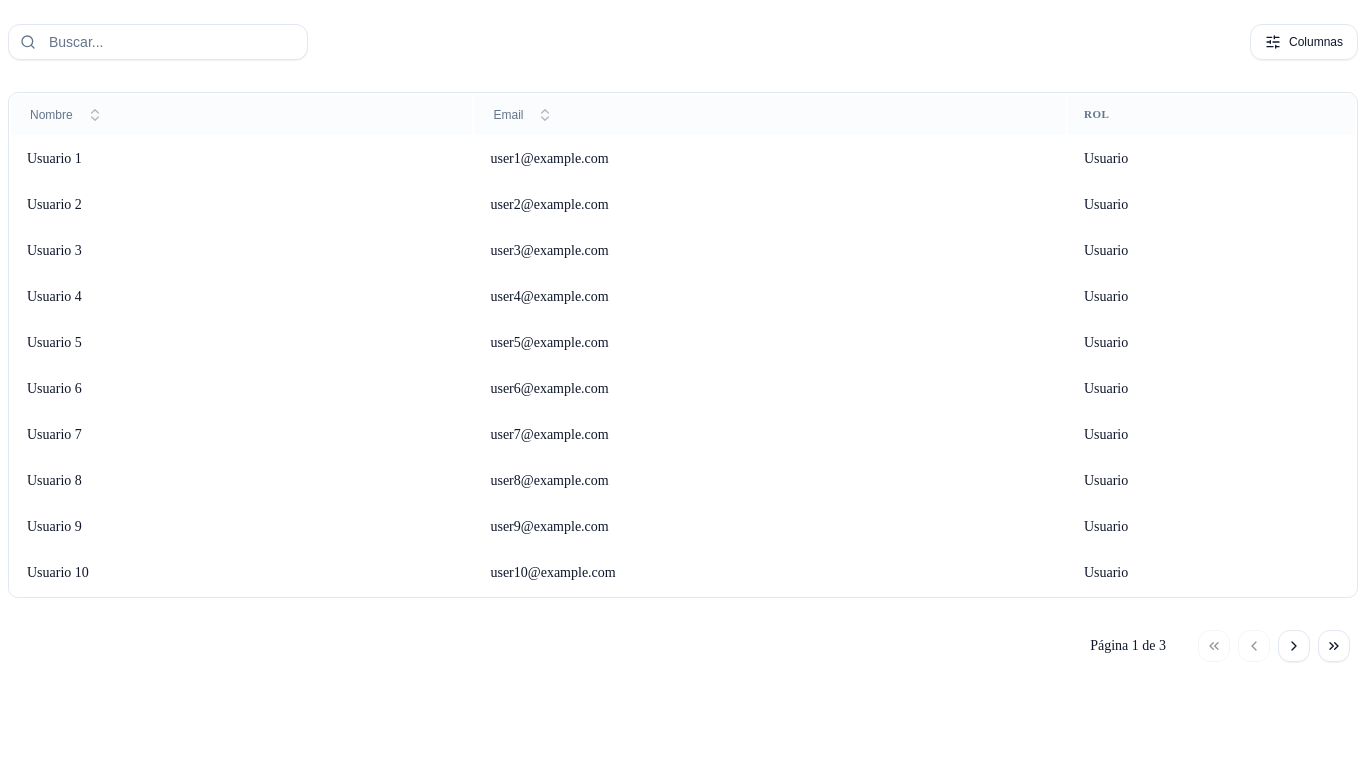
Scenario: DataTable Component › navigates pages using pagination next and prev buttons
Expected: the text "Página 1 de 3" is shown, [1090,636,1166,656]
Expected: the text "Usuario 1" is shown, [11,137,472,181]
Click the button named "ir a la página siguiente" at (1294, 646), box [1278,630,1310,662]
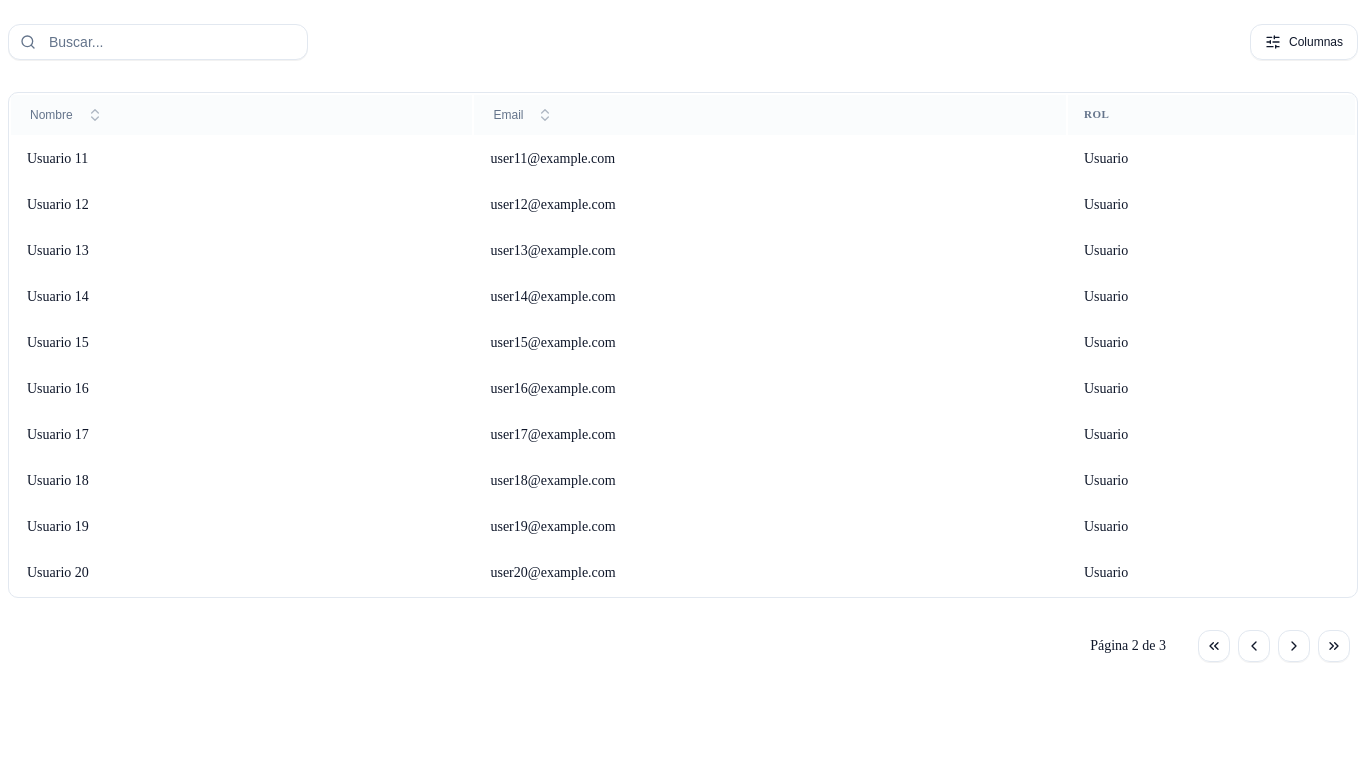
Expected: the text "Página 2 de 3" is shown, [1090,636,1166,656]
Expected: the text "Usuario 11" is shown, [11,137,472,181]
Click the button named "ir a la última página" at (1334, 646), box [1318,630,1350,662]
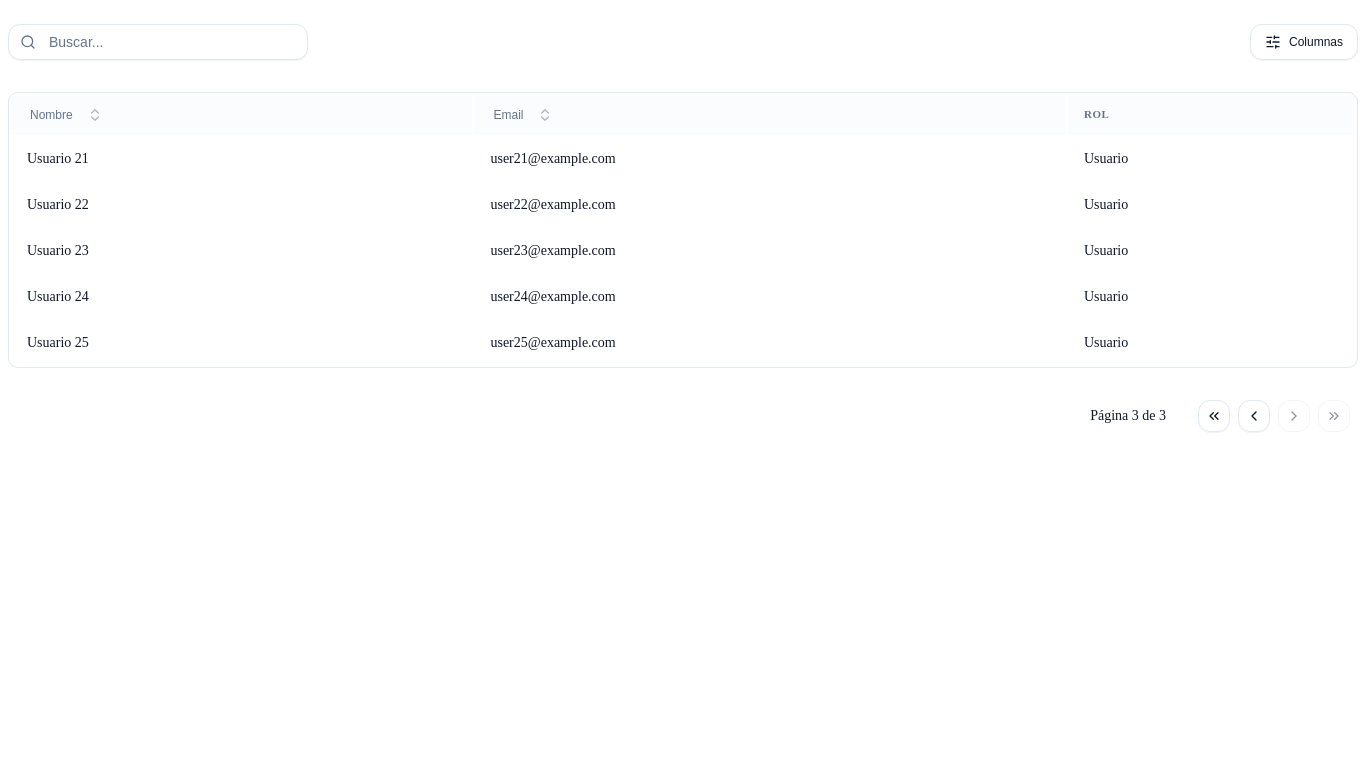
Expected: the text "Página 3 de 3" is shown, [1090,406,1166,426]
Expected: the text "Usuario 25" is shown, [11,321,472,365]
Click the button named "ir a la página anterior" at (1254, 416), box [1238,400,1270,432]
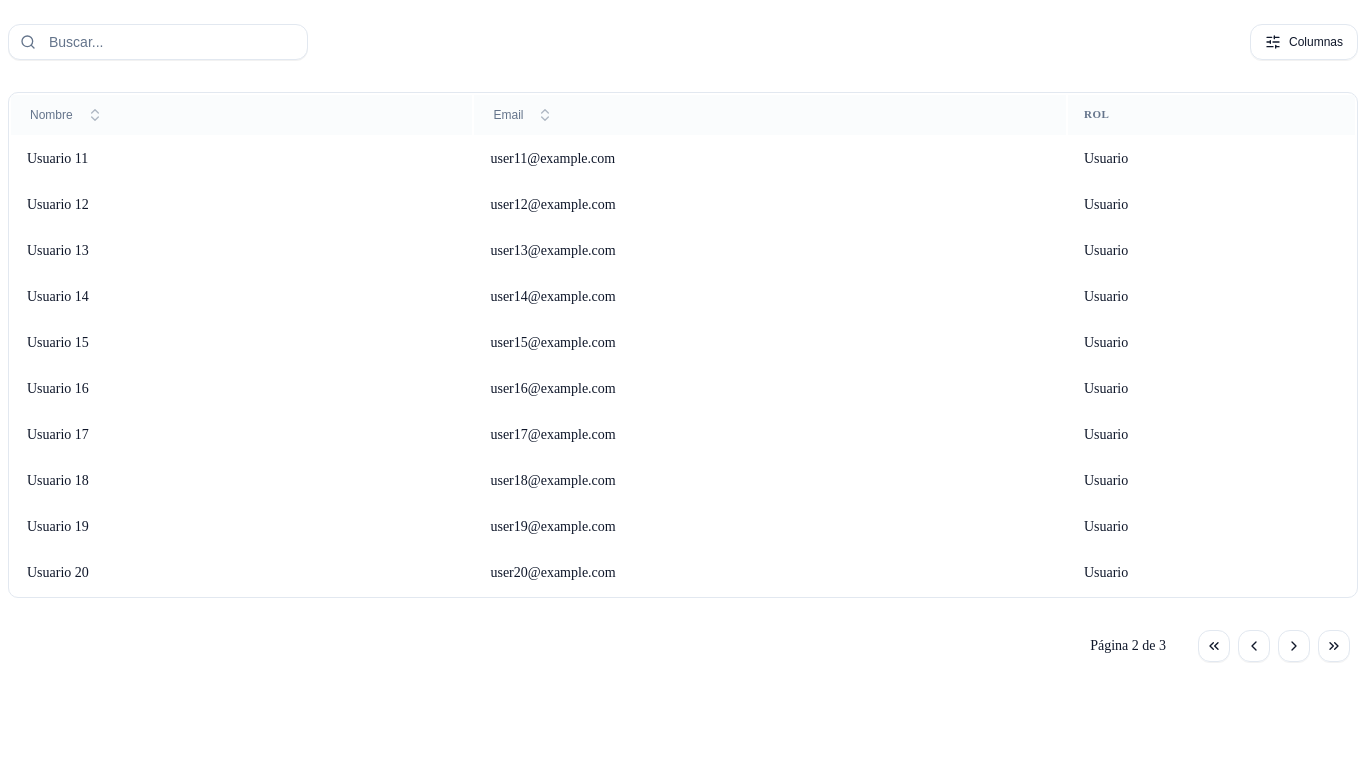
Expected: the text "Página 2 de 3" is shown, [1090,636,1166,656]
Click the button named "ir a la primera página" at (1214, 646), box [1198,630,1230,662]
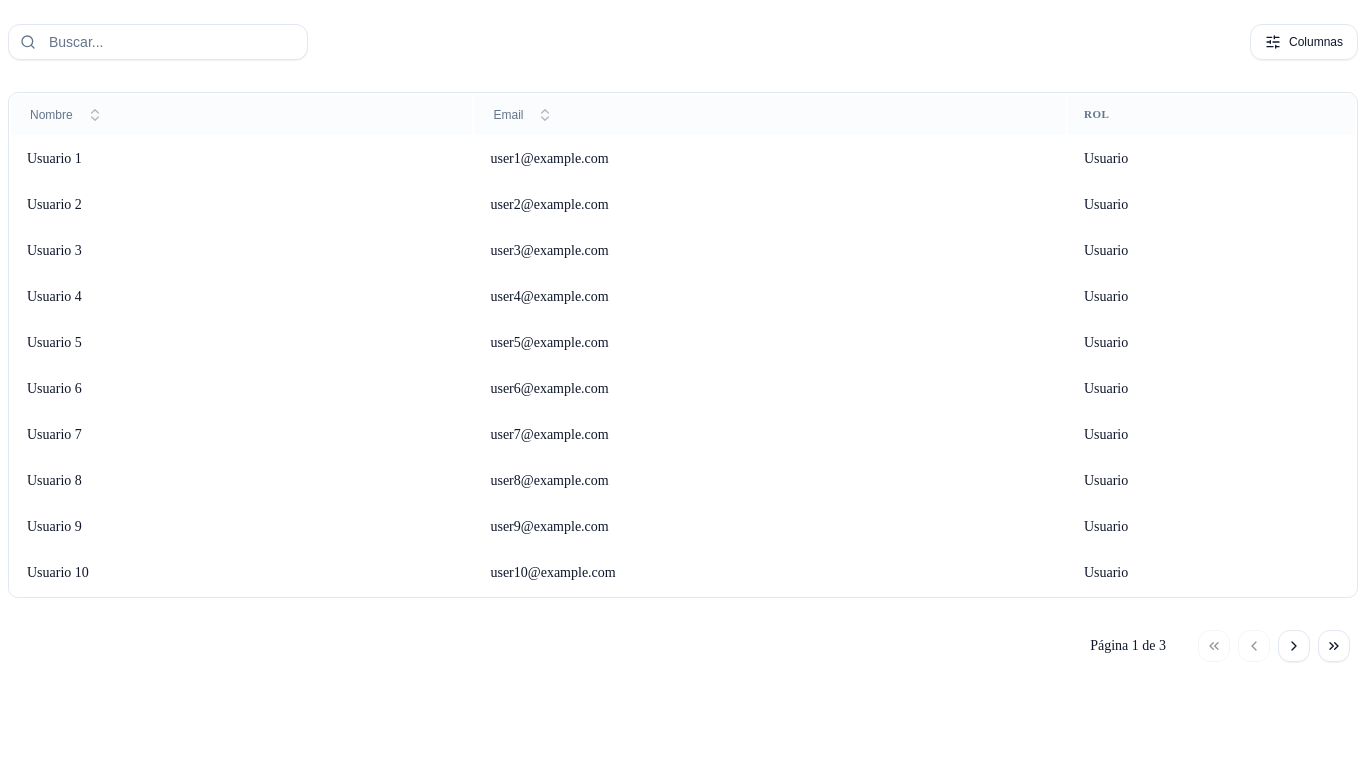
Expected: the text "Usuario 1" is shown, [11,137,472,181]
Expected: the text "Página 1 de 3" is shown, [1090,636,1166,656]
